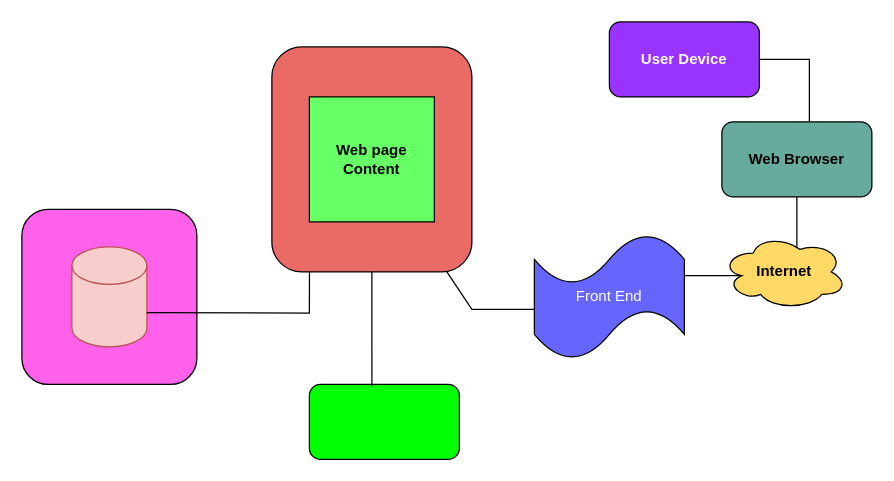
The diagram is 894 pixels wide and 481 high, and some of its shapes have lost their labels. Here are the shapes that lost their labels. From the top down, the centre of each, then its label:
At (x=109, y=296): "Database".
At (x=383, y=421): "Cloud Server".
